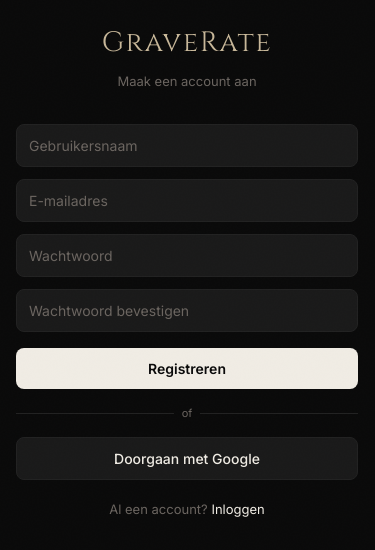
Test: Authenticatie › Registreren › toont foutmelding als wachtwoorden niet overeenkomen
The width and height of the screenshot is (375, 550).
Type "testuser" into the field with placeholder "Gebruikersnaam".
click(187, 146); type("testuser")  # box [16,124,358,167]
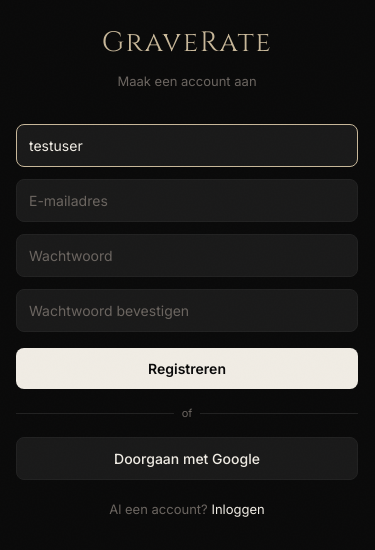
Type "test@test.com" into the field with placeholder "E-mailadres".
click(187, 201); type("test@test.com")  # box [16,179,358,222]
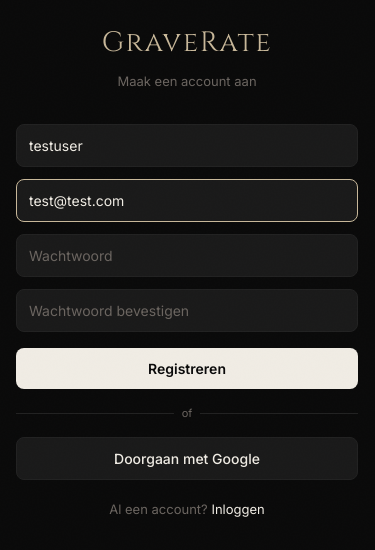
Type "wachtwoord123" into the password field with placeholder "Wachtwoord".
click(187, 256); type("wachtwoord123")  # box [16,234,358,277]
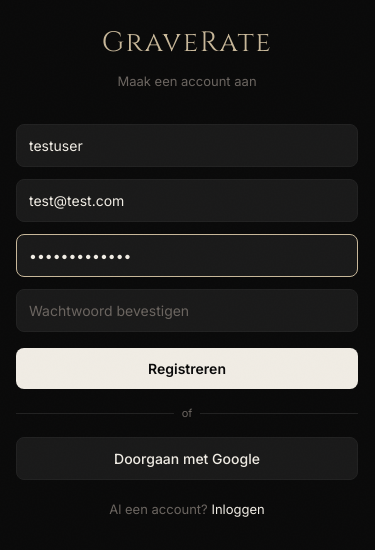
Type "anderwachtwoord" into the password field with placeholder "Wachtwoord bevestigen".
click(187, 311); type("anderwachtwoord")  # box [16,289,358,332]
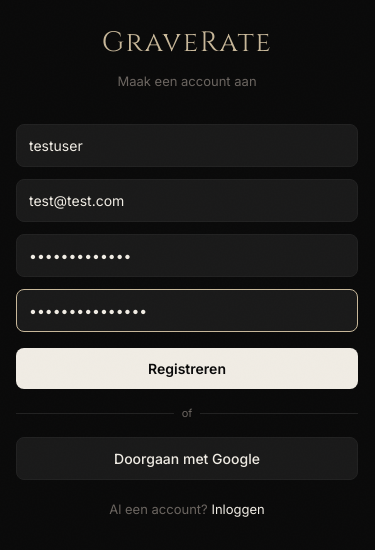
Click the submit button.
click(187, 369)  # box [16,348,358,389]
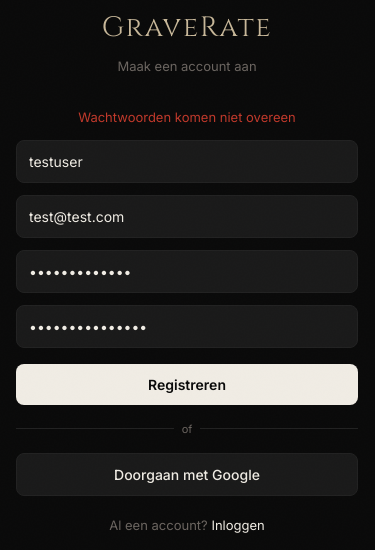
Now the text "Wachtwoorden komen niet overeen" is shown, box [78,109,296,125]
